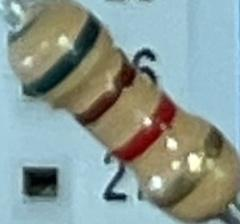Brown: (70, 50, 143, 133)
Green: (22, 9, 108, 104)
Red: (110, 90, 182, 170)
Side-Silver: (146, 123, 233, 217)
